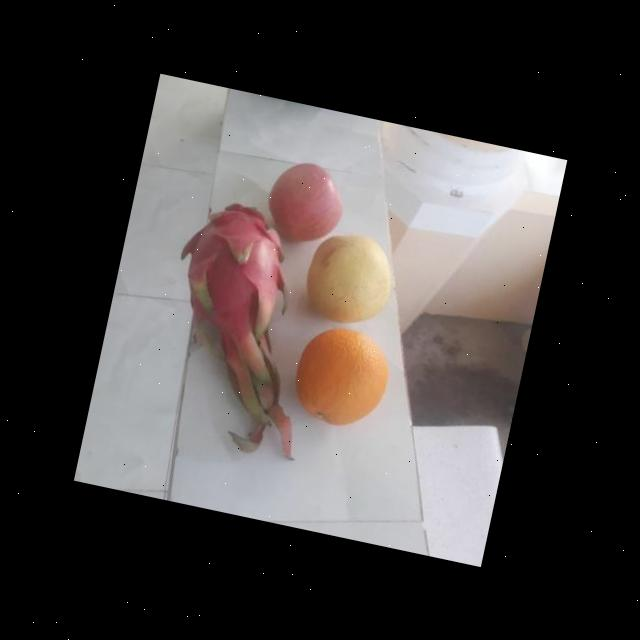apple: (257, 151, 353, 250)
orange: (283, 317, 399, 433)
pear: (294, 226, 402, 330)
pitaya: (158, 192, 300, 356)
